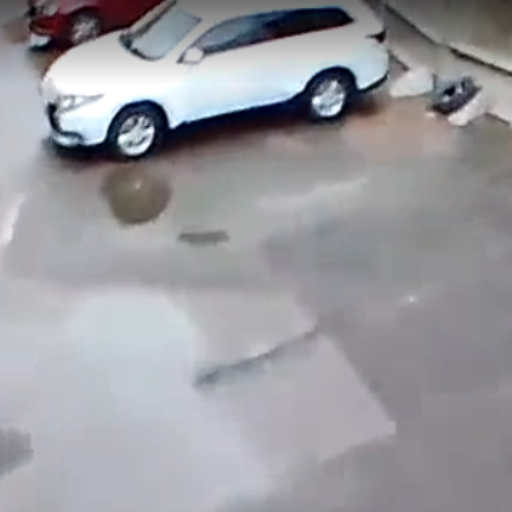Car: (41, 0, 391, 155)
